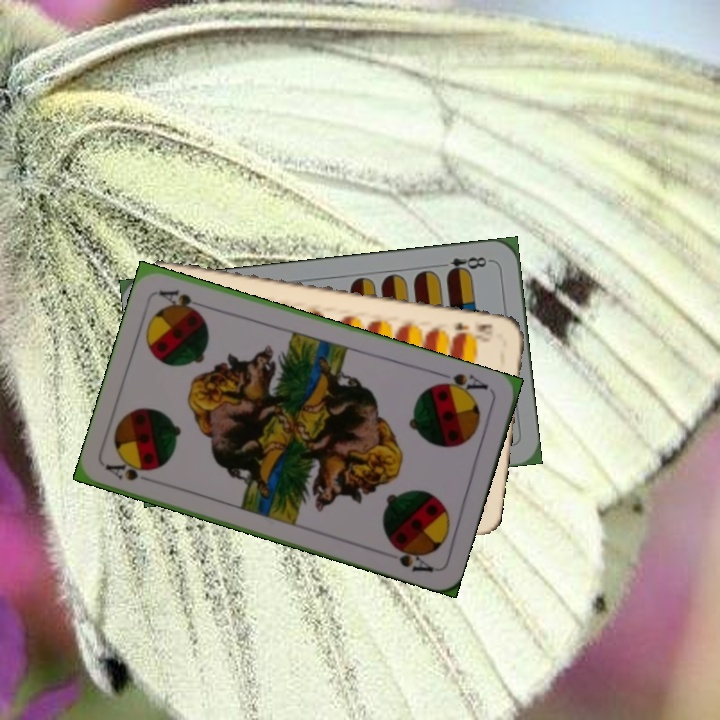E10: (451, 318, 496, 341)
E8: (434, 252, 494, 278)
SA: (432, 368, 491, 399), (102, 457, 161, 487)
